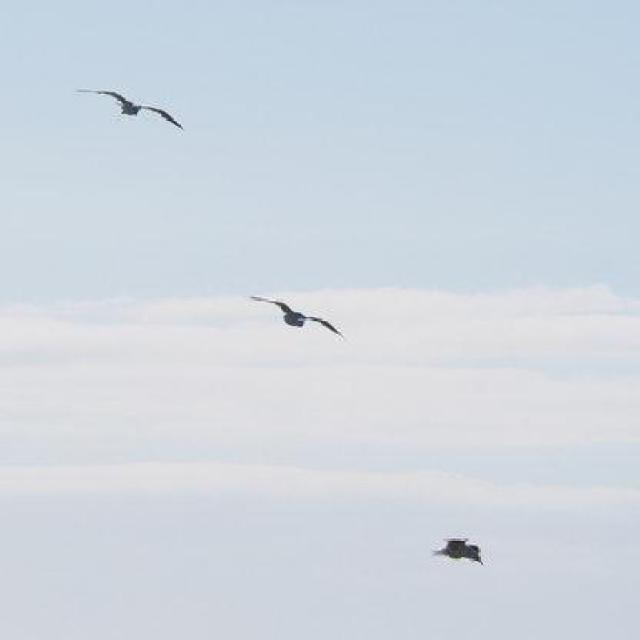bird: (74, 77, 188, 137), (242, 286, 343, 349), (422, 528, 496, 569)
